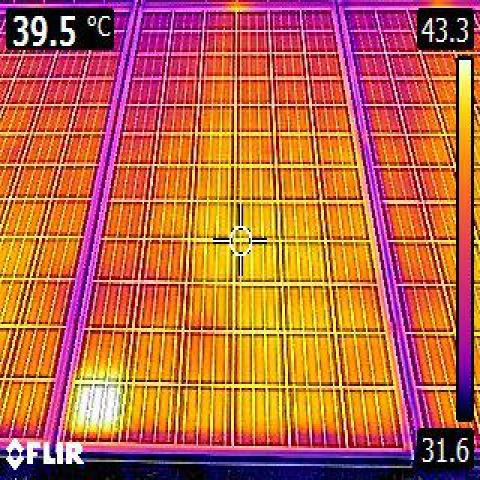fault: (74, 388, 120, 442)
